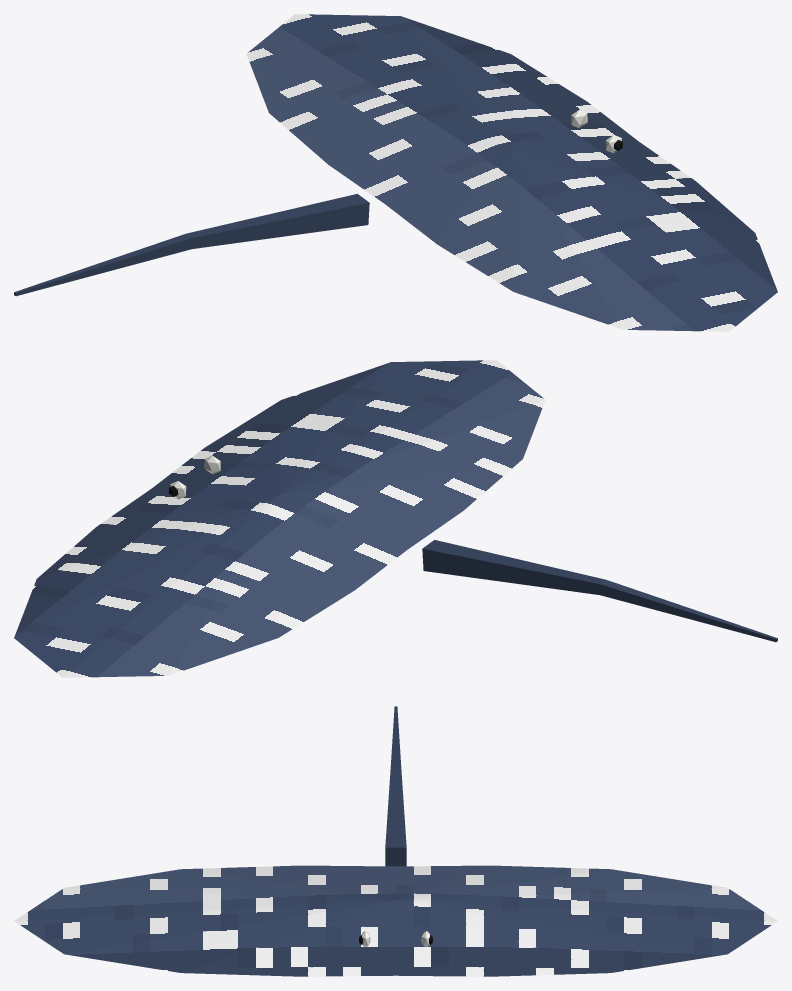
Rendered from spotted_eagle_ray.glb.
3 renders of one model, top to bottom at view 1: azimuth 30°, elevation 25°; view 2: azimuth 150°, elevation 25°; view 3: azimuth 270°, elevation 25°, orthographic. The views are drawn at different scales.
Parts seen in each view (by area): view 1: fish_spotted_eagle_ray; view 2: fish_spotted_eagle_ray; view 3: fish_spotted_eagle_ray.
Part boxes in pixels (bbox=[...]): fish_spotted_eagle_ray: bbox=[14, 14, 777, 331]; fish_spotted_eagle_ray: bbox=[14, 360, 777, 677]; fish_spotted_eagle_ray: bbox=[14, 706, 777, 976].
Size of the model in its own units: 1.26 by 0.0792 by 1.51.
Materials: 4 (1 with a texture image).
